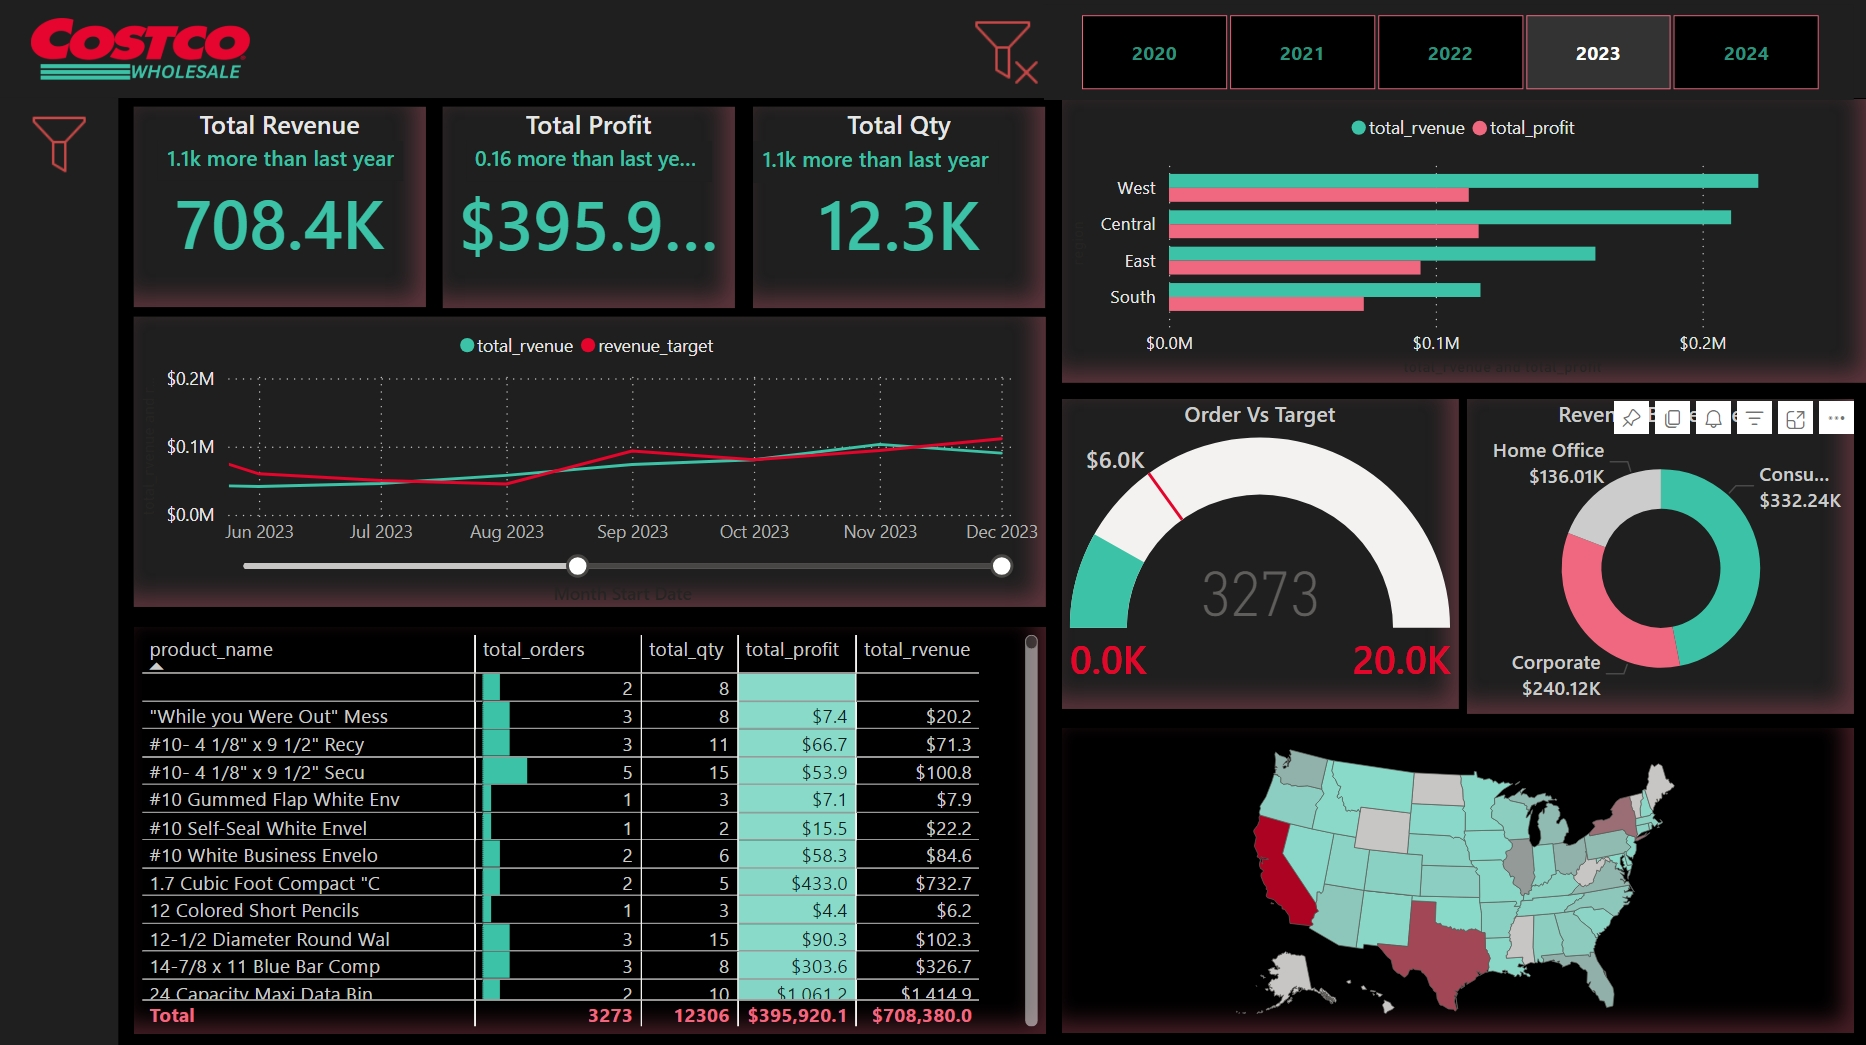

What the dashboard file says about the page in this screenshot:
{"tool":"powerbi","page":{"name":"Page 1","canvas":[1280,720],"ordinal":0},"visuals":[{"type":"shape","box":[0,0,1280.1,67.2],"z":0},{"type":"shape","box":[0,67.2,81.1,653.3],"z":1000},{"type":"image","box":[13.6,0,165,72.7],"z":2000},{"type":"card","title":"Total Revenue","fields":{"Values":["mesures_table.total_rvenue"]},"box":[90.9,72.7,200,137.1],"z":3000},{"type":"card","title":"Total Qty","fields":{"Values":["mesures_table.total_qty"]},"box":[514.8,72.7,199.9,137.8],"z":4000},{"type":"card","title":"Total Profit","fields":{"Values":["mesures_table.total_profit"]},"box":[302.9,72.7,199.9,137.8],"z":5000},{"type":"clusteredBarChart","fields":{"Category":["customers.region"],"Y":["mesures_table.total_rvenue","mesures_table.total_profit"]},"box":[726.8,68.1,552.7,193.8],"z":6000},{"type":"lineChart","fields":{"Category":["date_table.Month Start Date"],"Y":["mesures_table.total_rvenue","mesures_table.revenue_target"]},"box":[90.9,216.5,623.9,198.4],"z":7000},{"type":"gauge","title":"Order Vs Target","fields":{"Y":["mesures_table.total_orders"],"TargetValue":["mesures_table.target_orders"]},"box":[726.8,272.6,271,212],"z":8000},{"type":"donutChart","title":"Revenue By Segment","fields":{"Y":["mesures_table.total_rvenue"],"Category":["customers.Segment"]},"box":[1003.9,272.6,265,215],"z":9000},{"type":"tableEx","fields":{"Values":["products.product_name","mesures_table.total_orders","mesures_table.total_qty","mesures_table.total_profit","mesures_table.total_rvenue"]},"box":[90.9,428.5,623.9,278.6],"z":10000},{"type":"shapeMap","fields":{"Category":["customers.state"],"Value":["mesures_table.total_rvenue"]},"box":[726.8,498.2,542.1,209],"z":11000},{"type":"slicer","fields":{"Values":["date_table.Year"]},"box":[714.7,3,554.2,65.1],"z":12000},{"type":"image","title":"Clear Filter Button","box":[661.7,9.1,53,53],"z":13000},{"type":"image","title":"Open filter Pane Button","box":[7,72.7,67.2,51.8],"z":14000},{"type":"card","fields":{"Values":["mesures_table.kpi Qty YOY"]},"box":[107.5,96.9,168.1,27.3],"z":24000},{"type":"card","fields":{"Values":["mesures_table.KPI profit YOY"]},"box":[319,96.5,167.9,28],"z":25000},{"type":"card","fields":{"Values":["mesures_table.kpi Qty YOY"]},"box":[514.8,96.9,168.1,28.8],"z":26000}]}

Visuals, with their boxes in screenshot pixels (x1, y1, x2, y2), scaled from the page's 1280x720 canvas onto the 1866x1045 screenshot:
shape: 0, 0, 1865, 98
shape: 0, 98, 118, 1044
image: 20, 0, 260, 106
"Total Revenue" card: 133, 106, 424, 305
"Total Qty" card: 750, 106, 1042, 306
"Total Profit" card: 442, 106, 733, 306
clusteredBarChart - customers.region x mesures_table.total_rvenue: 1060, 99, 1865, 380
lineChart - date_table.Month Start Date x mesures_table.total_rvenue: 133, 314, 1042, 602
"Order Vs Target" gauge: 1060, 396, 1455, 703
"Revenue By Segment" donutChart: 1463, 396, 1850, 708
tableEx - products.product_name x mesures_table.total_orders: 133, 622, 1042, 1026
shapeMap - customers.state x mesures_table.total_rvenue: 1060, 723, 1850, 1026
slicer - date_table.Year: 1042, 4, 1850, 99
"Clear Filter Button" image: 965, 13, 1042, 90
"Open filter Pane Button" image: 10, 106, 108, 181
card - mesures_table.kpi Qty YOY: 157, 141, 402, 180
card - mesures_table.KPI profit YOY: 465, 140, 710, 181
card - mesures_table.kpi Qty YOY: 750, 141, 996, 182
